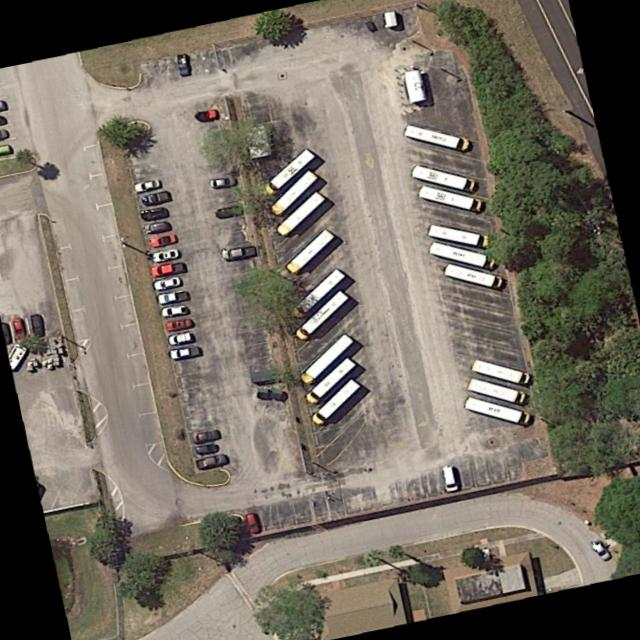large-vehicle: (289, 267, 346, 319), (299, 332, 354, 384), (294, 288, 349, 340), (303, 356, 356, 405), (261, 148, 315, 196), (309, 378, 360, 425), (284, 227, 335, 274), (269, 169, 318, 216), (275, 190, 325, 236), (463, 395, 534, 426), (427, 239, 497, 270), (402, 122, 471, 152), (409, 164, 477, 192), (416, 184, 484, 212), (470, 358, 532, 385), (465, 377, 526, 404), (443, 262, 505, 288), (427, 223, 491, 247)
small-vehicle: (220, 244, 257, 260), (194, 452, 228, 469), (150, 260, 185, 276), (440, 462, 459, 491), (588, 537, 611, 560), (140, 189, 171, 206), (138, 205, 169, 221), (152, 274, 181, 291), (147, 231, 177, 247), (214, 203, 244, 219), (169, 344, 201, 359), (157, 289, 188, 304), (151, 246, 180, 262), (164, 316, 194, 331), (133, 176, 161, 192), (10, 315, 27, 340), (192, 428, 220, 443), (143, 219, 170, 233), (30, 312, 45, 337), (161, 302, 187, 316), (166, 330, 192, 344), (209, 175, 237, 187), (245, 511, 260, 533), (194, 441, 219, 454), (175, 52, 188, 75), (194, 109, 216, 121), (0, 142, 10, 153), (0, 127, 7, 137), (0, 114, 6, 124)
